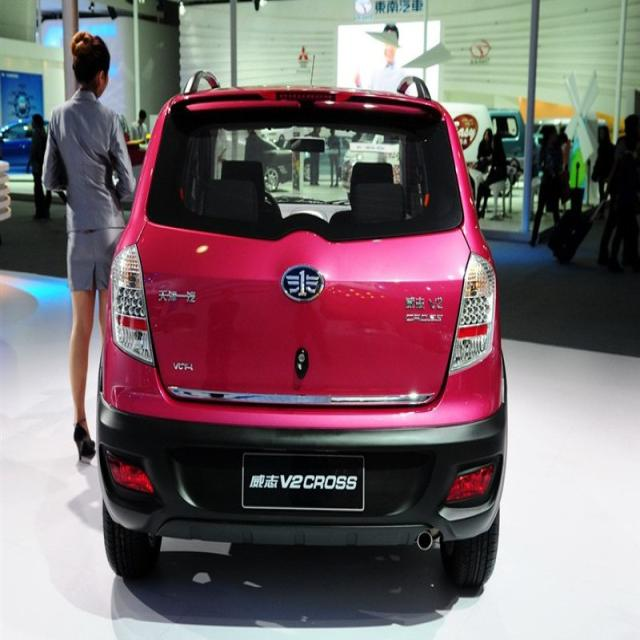back_glass: (143, 97, 465, 238)
back_left_side_light: (111, 242, 153, 368)
back_right_side_light: (446, 255, 497, 383)
rear_bumper: (94, 390, 509, 540)
